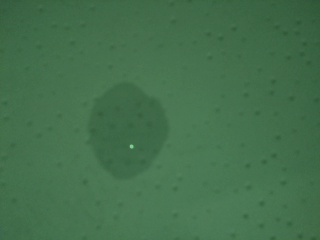Water_detected: (87, 87, 159, 170)
